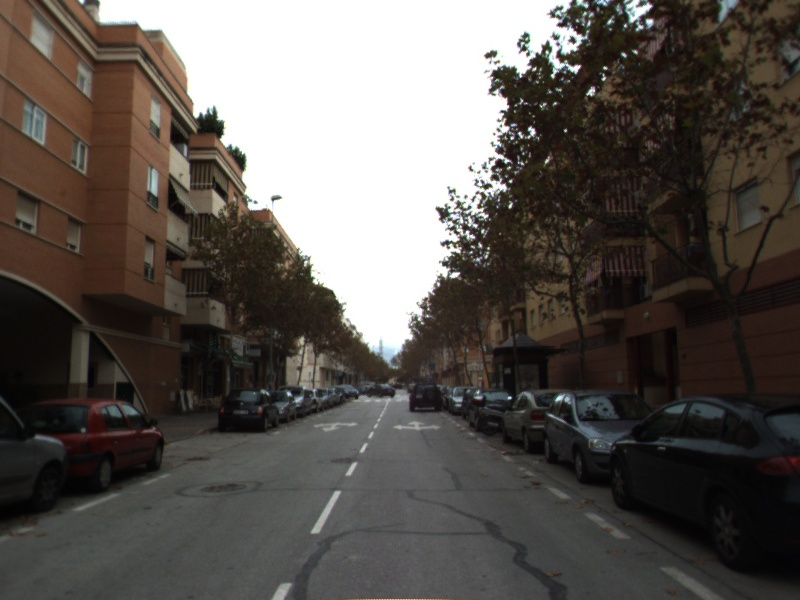STRAIGHT_LEFT_RIGHT: (391, 418, 444, 433)
